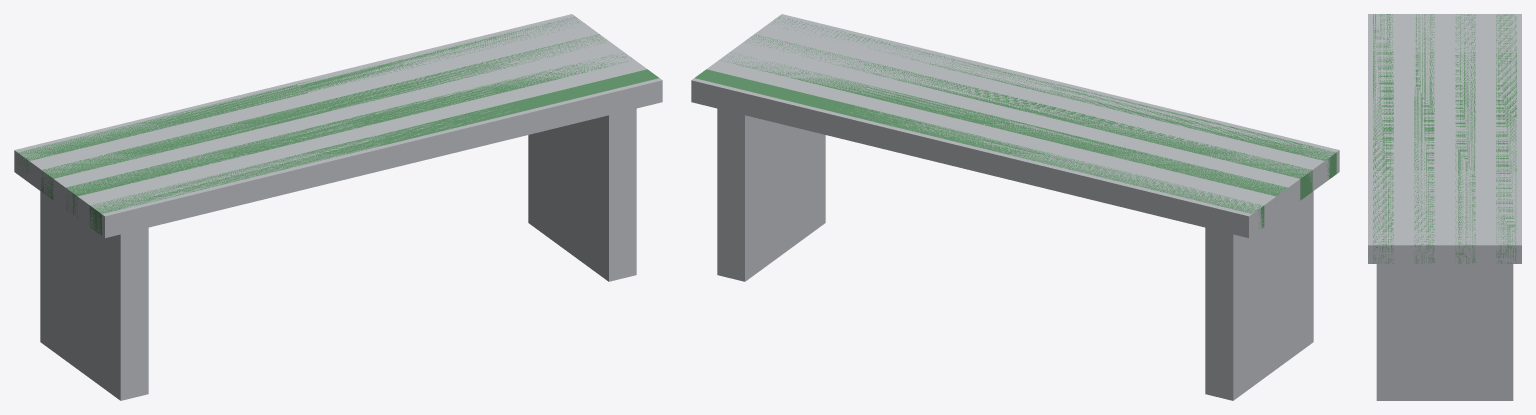
The model's file is prop_bench_metal.glb.
3 renders of one model, left to right at view 1: azimuth 30°, elevation 25°; view 2: azimuth 150°, elevation 25°; view 3: azimuth 270°, elevation 25°, orthographic. The views are drawn at different scales.
Visible parts, largest first — view 1: bench_metal; view 2: bench_metal; view 3: bench_metal.
Part boxes in pixels (x1=…): bench_metal: x1=14, y1=14, x2=662, y2=400; bench_metal: x1=691, y1=14, x2=1339, y2=400; bench_metal: x1=1368, y1=14, x2=1521, y2=400.
Bounding box in the file's own units: 1.6 × 0.53 × 0.45.
